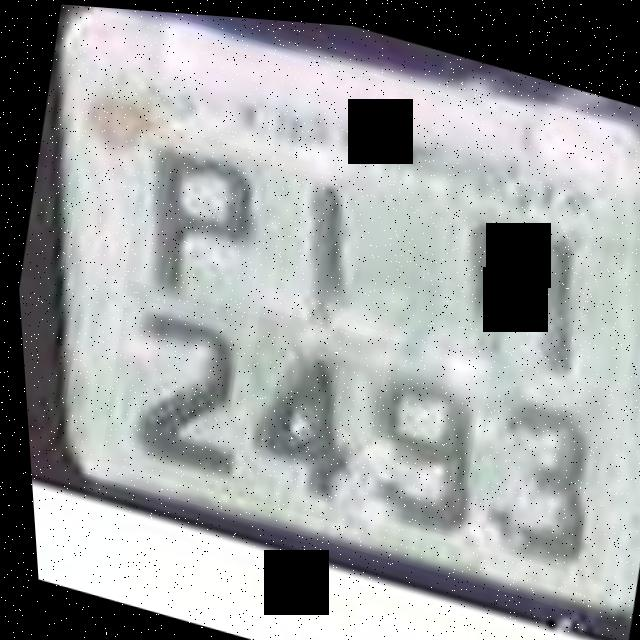2: (85, 276, 284, 502)
3: (447, 347, 635, 575)
4: (216, 300, 393, 526)
9: (320, 318, 514, 548)
H: (420, 183, 600, 393)
P: (108, 116, 278, 328)
